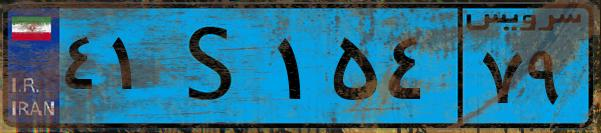1: (270, 28, 330, 110), (110, 28, 158, 98)
4: (385, 28, 445, 110), (57, 26, 110, 100)
5: (330, 28, 385, 110)
7: (475, 38, 525, 113)
9: (525, 38, 570, 115)
S: (158, 12, 270, 120)
